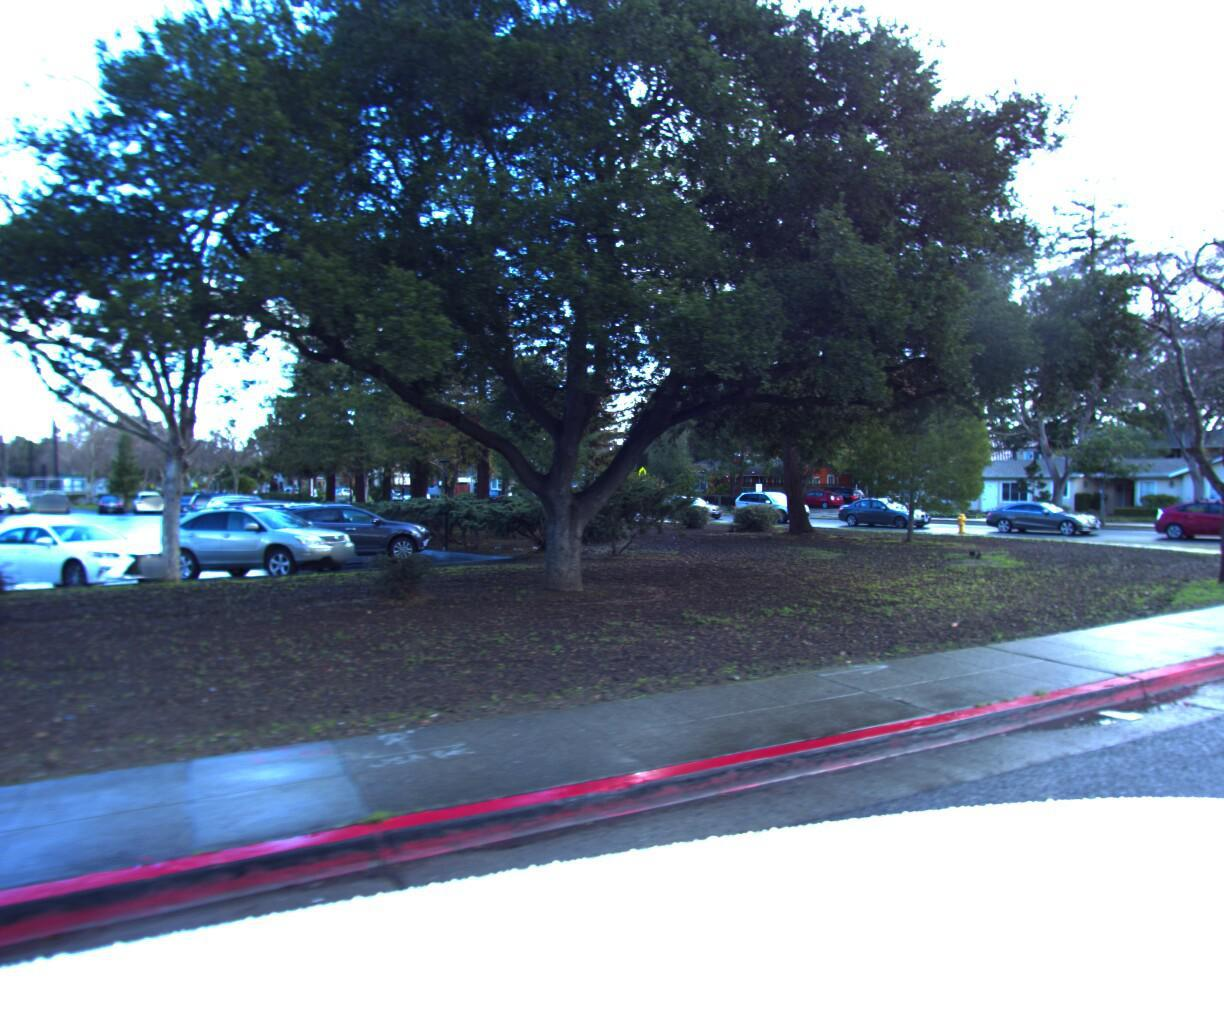car: (982, 504, 1107, 538), (1146, 497, 1224, 545), (838, 502, 937, 531), (738, 498, 815, 525), (661, 497, 729, 521)
